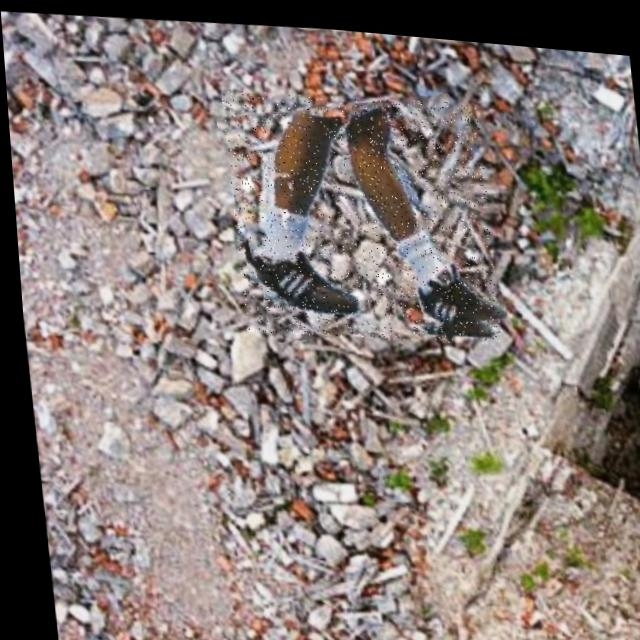Person in Rubble: (219, 77, 499, 345)
